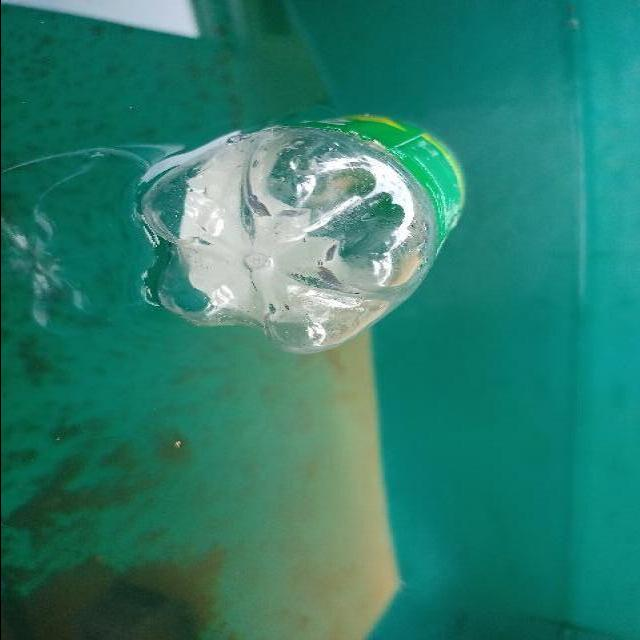Bottle: (128, 101, 470, 373)
